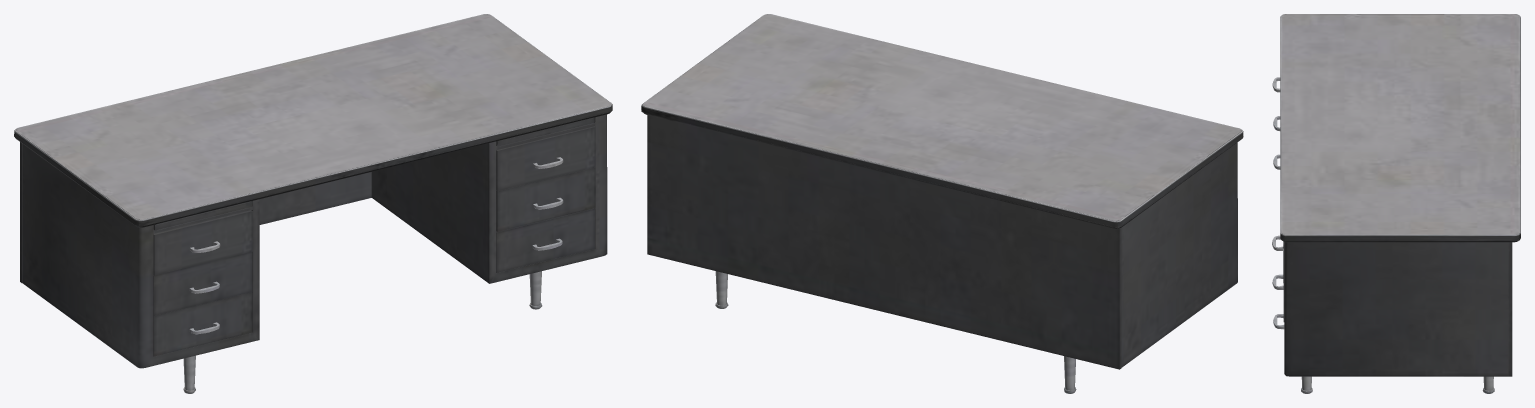
Rendered from ph_metal_office_desk.glb.
3 views of the same model, side by side, from view 1: azimuth 30°, elevation 25°; view 2: azimuth 150°, elevation 25°; view 3: azimuth 270°, elevation 25° (orthographic). The views are drawn at different scales.
Parts seen in each view (by area): view 1: metal_office_desk_drawer_06; view 2: metal_office_desk_drawer_06; view 3: metal_office_desk_drawer_06.
Part boxes in pixels (bbox=[...]): metal_office_desk_drawer_06: bbox=[14, 14, 612, 393]; metal_office_desk_drawer_06: bbox=[641, 14, 1243, 393]; metal_office_desk_drawer_06: bbox=[1272, 14, 1520, 393].
Bounding box in the file's own units: 2 × 0.7875 × 0.9482.
1 material, 1 textured.
